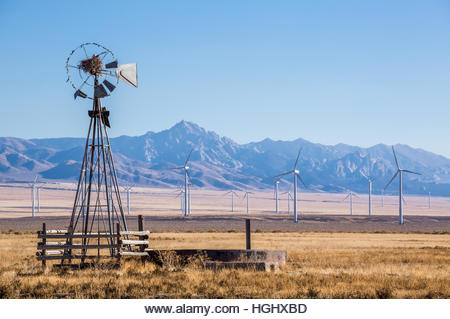faulty: (63, 40, 140, 141)
working: (381, 143, 422, 207), (270, 147, 313, 195)
